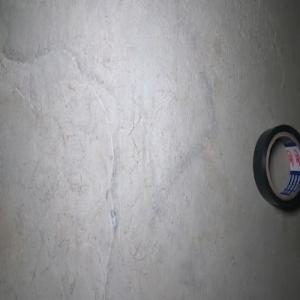Tape: (252, 124, 300, 212)
